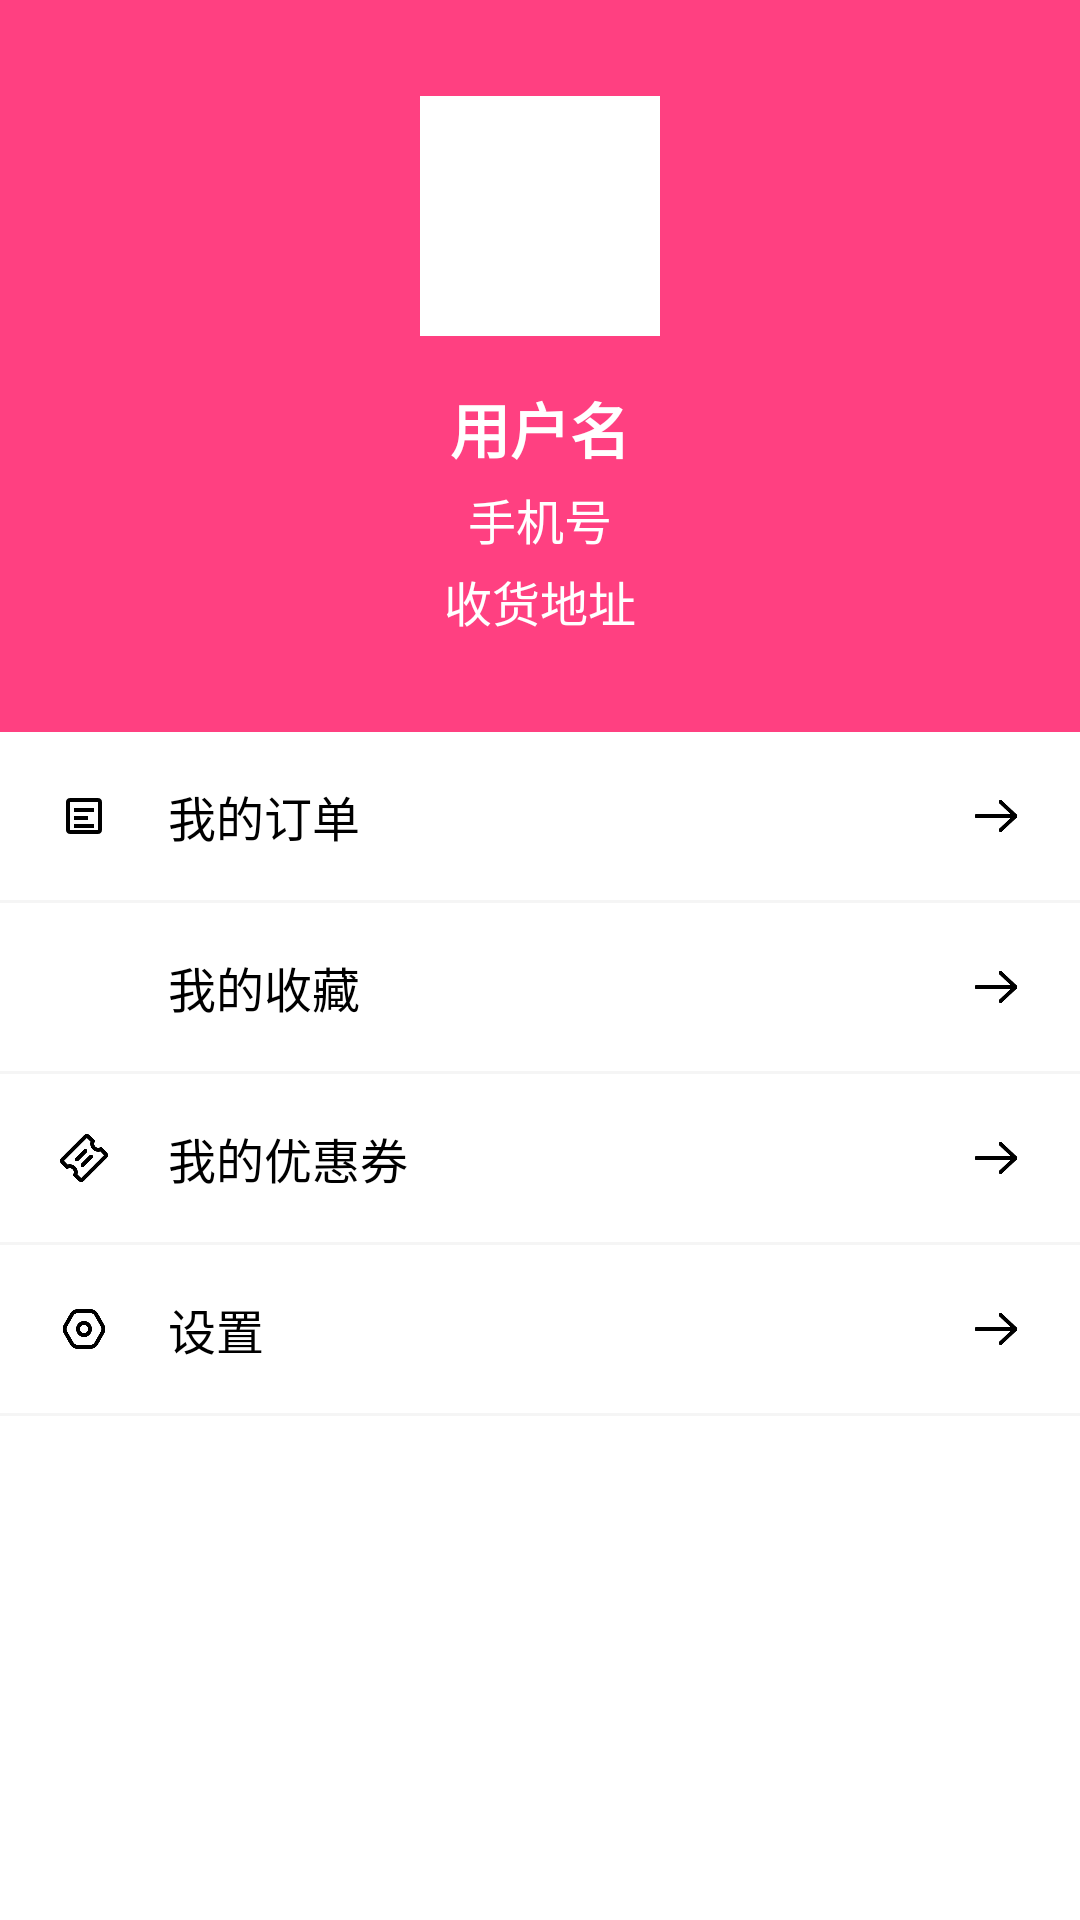

Icons on this 1080*1920 Android screen, each with the point to tap as point (x, y):
arrow right: point (996, 816), point (996, 987), point (996, 1158), point (996, 1329)
coupon: point (84, 1158)
order: point (84, 816)
setting: point (84, 1329)
